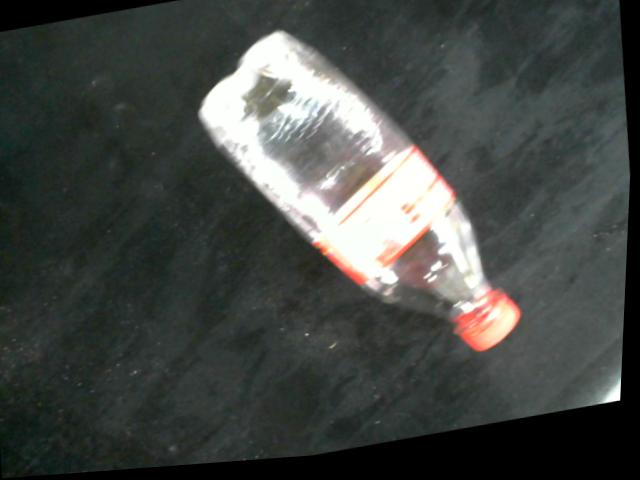bottle: (198, 33, 526, 360)
